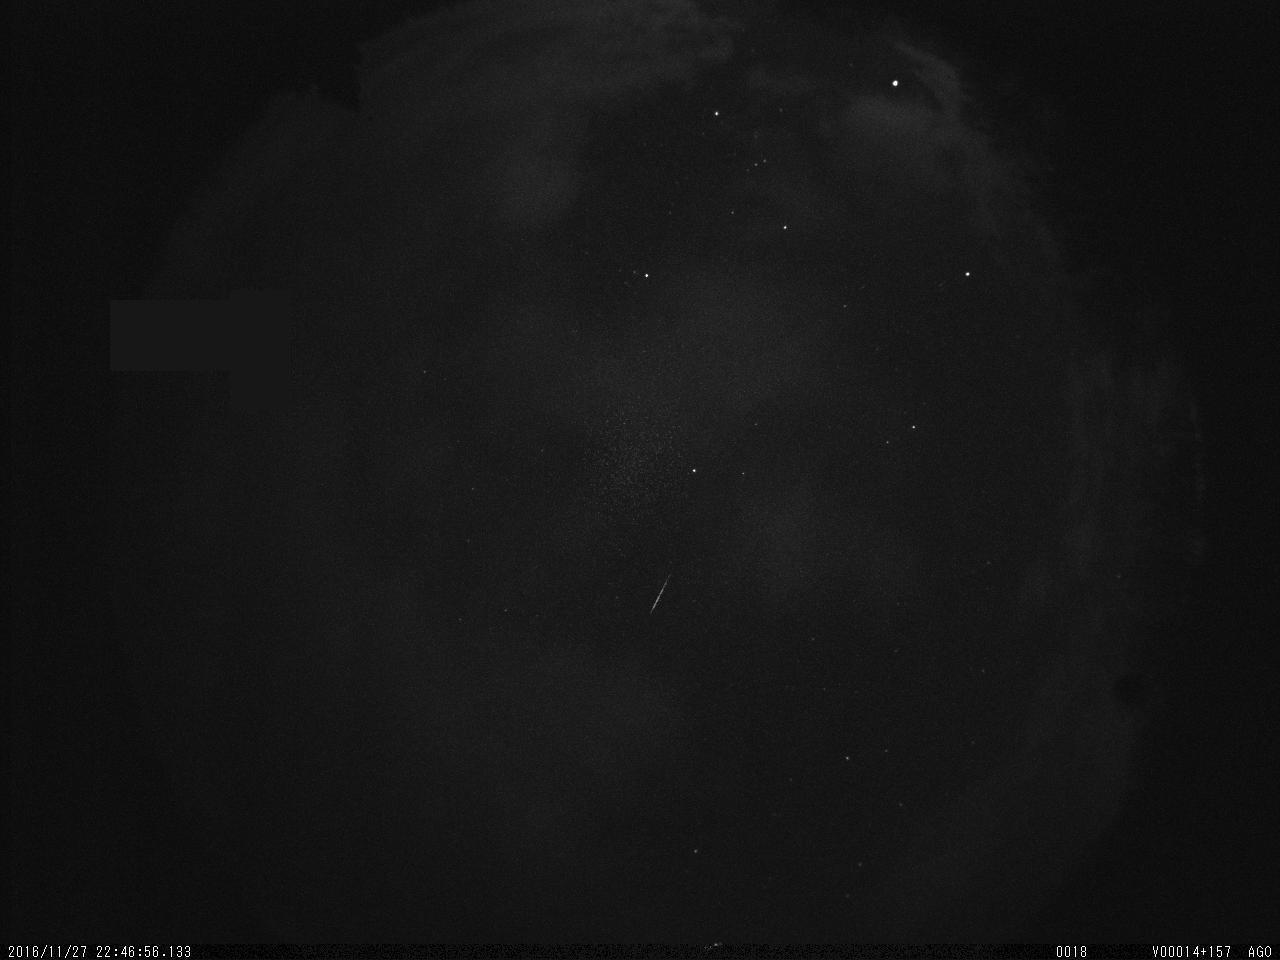meteor: (640, 562, 688, 632)
